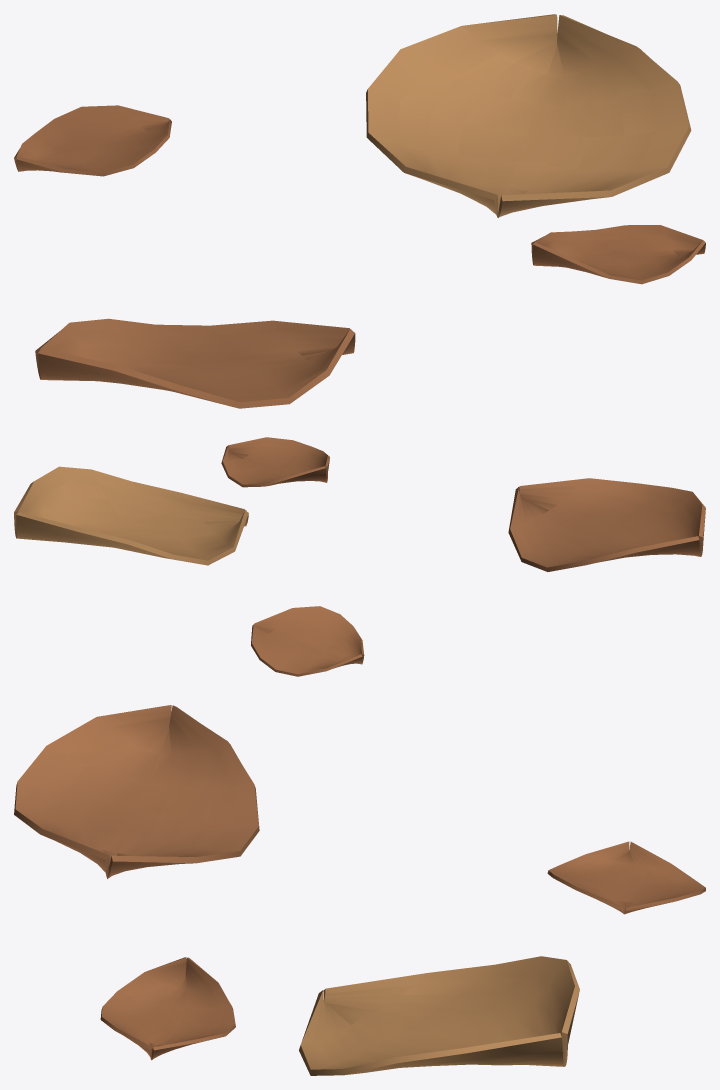
File: canopy_gc_leaf_litter_a.glb
3 views of the same model, one above another, from view 1: azimuth 30°, elevation 25°; view 2: azimuth 150°, elevation 25°; view 3: azimuth 270°, elevation 25° (orthographic). The views are drawn at different scales.
Visible parts, largest first — view 1: canopy_gc_leaf_litter_a; view 2: canopy_gc_leaf_litter_a; view 3: canopy_gc_leaf_litter_a.
Part boxes in pixels (<box>): canopy_gc_leaf_litter_a: <box>14,14,705,408</box>; canopy_gc_leaf_litter_a: <box>14,437,705,676</box>; canopy_gc_leaf_litter_a: <box>14,705,705,1075</box>.
Size of the model in its own units: 4.68 by 0.4278 by 3.88.
